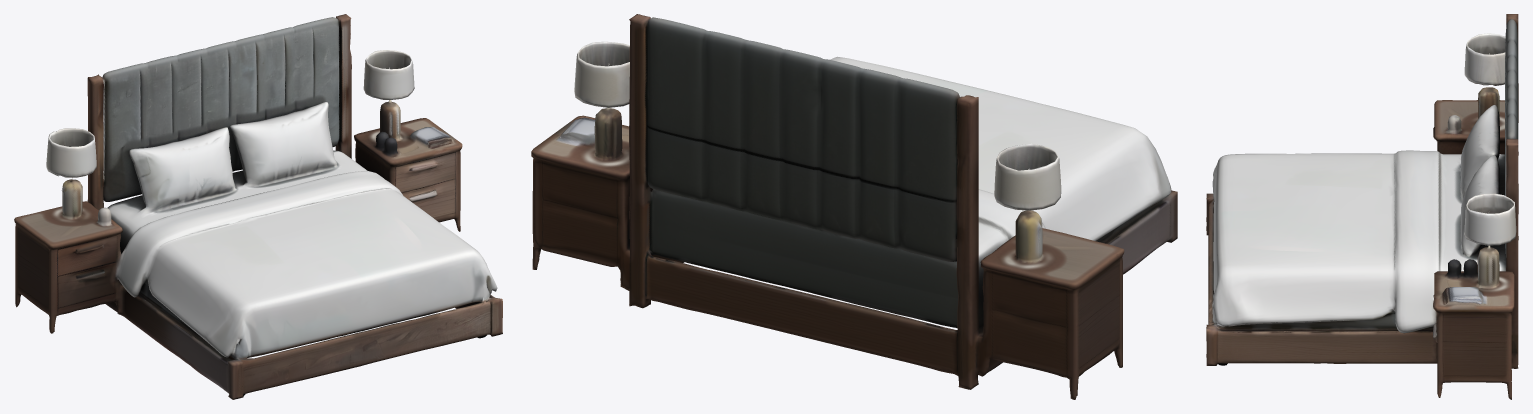
File: bed.glb
3 renders of one model, left to right at view 1: azimuth 30°, elevation 25°; view 2: azimuth 150°, elevation 25°; view 3: azimuth 270°, elevation 25°, orthographic. The views are drawn at different scales.
Visible parts, largest first — view 1: model; view 2: model; view 3: model.
Part boxes in pixels (left/top/right/bottom): model: left=14, top=14, right=502, bottom=399; model: left=531, top=14, right=1177, bottom=399; model: left=1206, top=14, right=1518, bottom=399.
Bounding box in the file's own units: 1.78 × 0.9067 × 1.13.
Materials: 1 (1 with a texture image).
